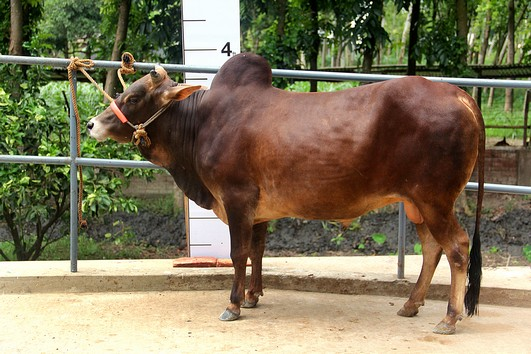cow: (82, 47, 490, 337)
